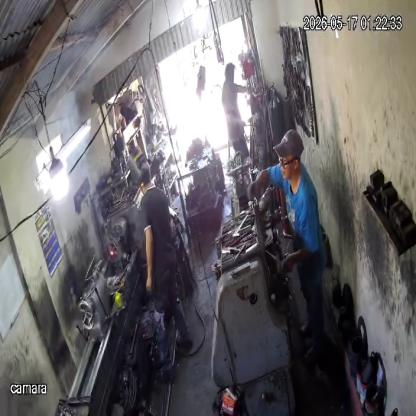lentes: (276, 155, 299, 169)
